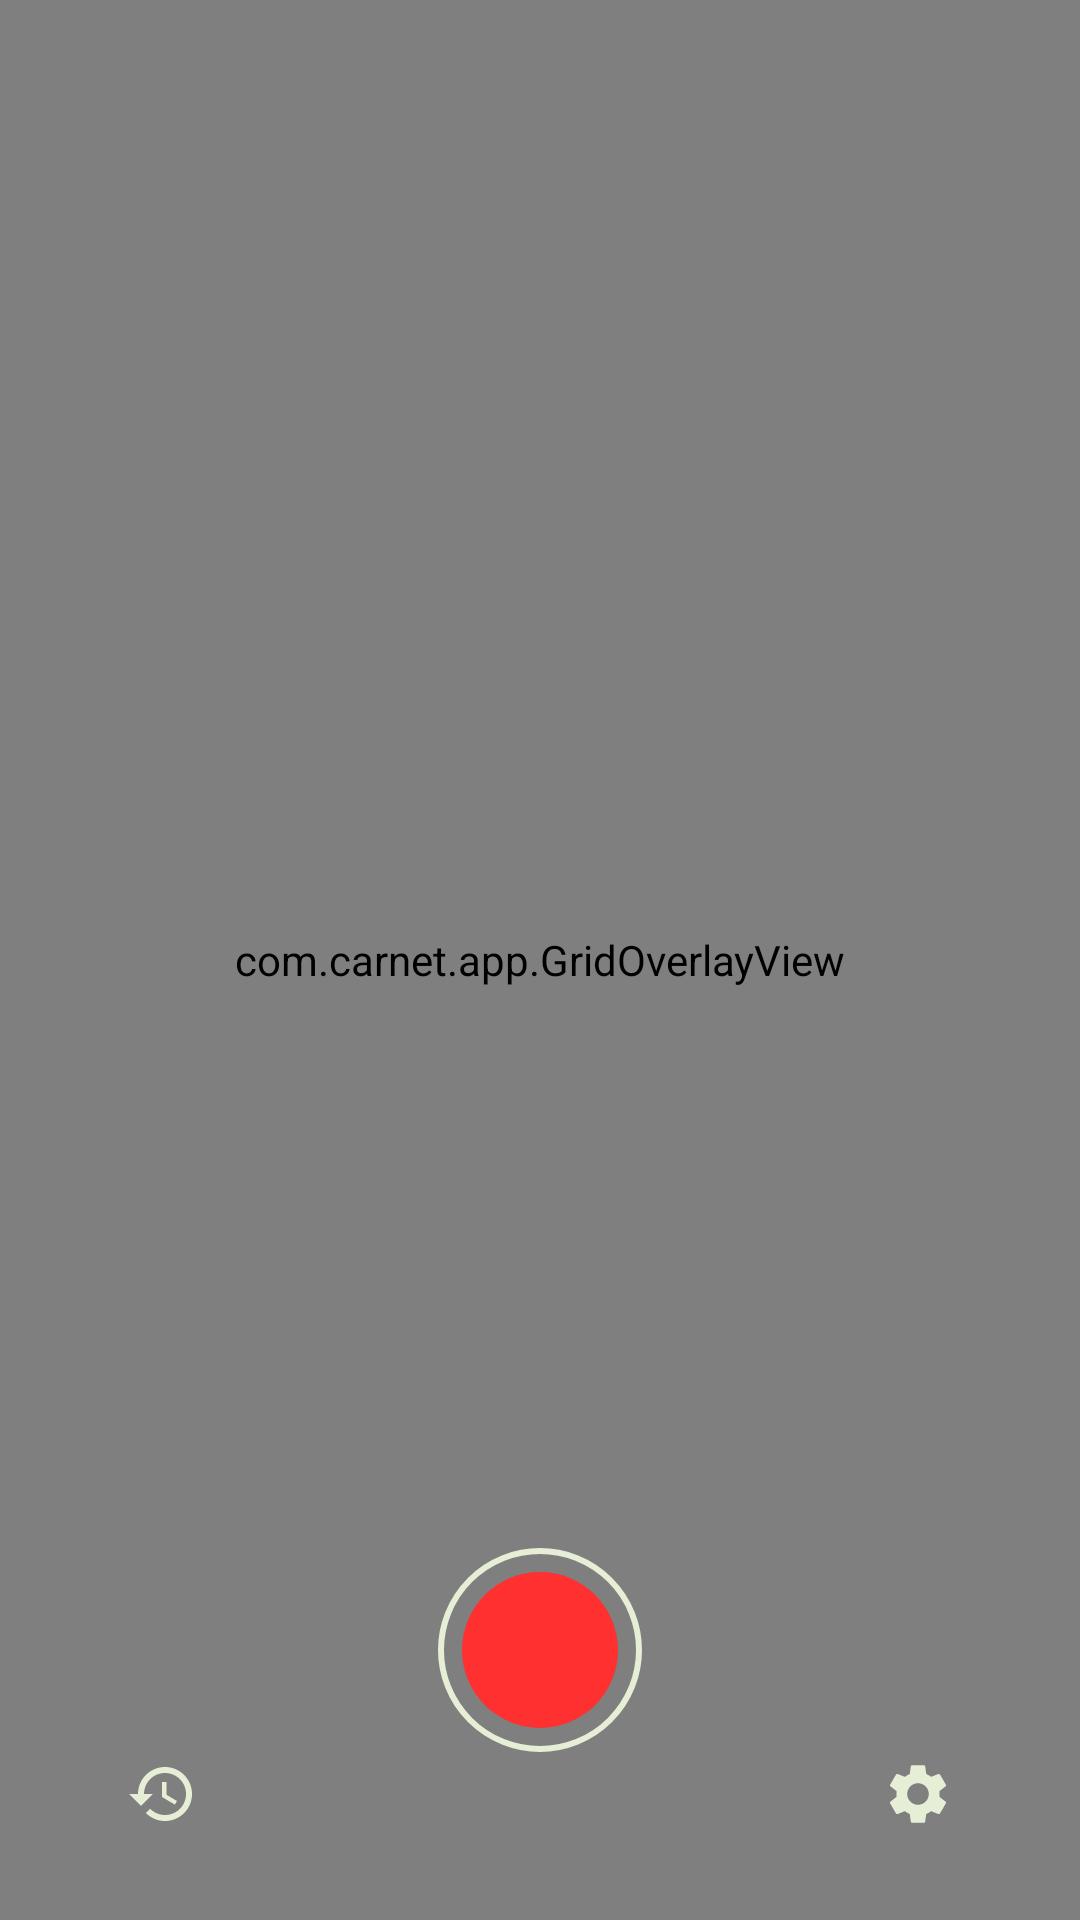

Locate icon controls on the screen. Image size 1080x1920, boxes as (x1, y1, x2, y2).
Record: (438, 1548, 642, 1752)
Recordings history: (129, 1767, 192, 1821)
Settings: (890, 1765, 946, 1823)
